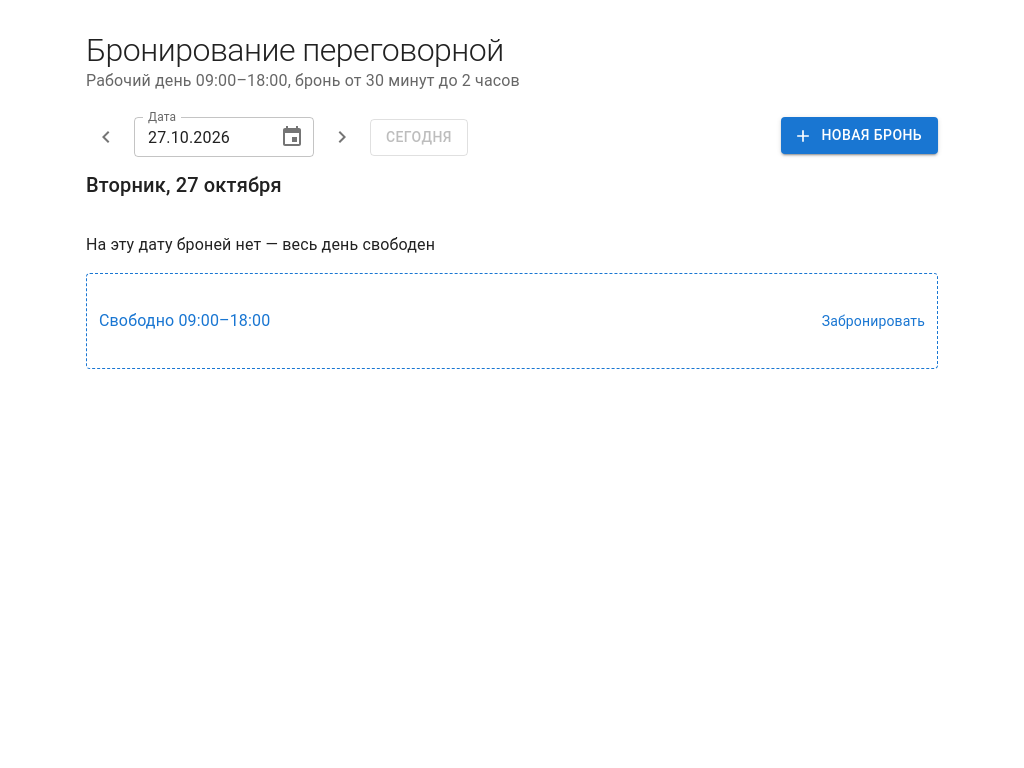
it: App integration › blocks submit with client-side validation when the booking is too long
Click the button with aria-label "Свободно 09:00–18:00, забронировать".
click(139, 321)  # box [86,273,938,369]
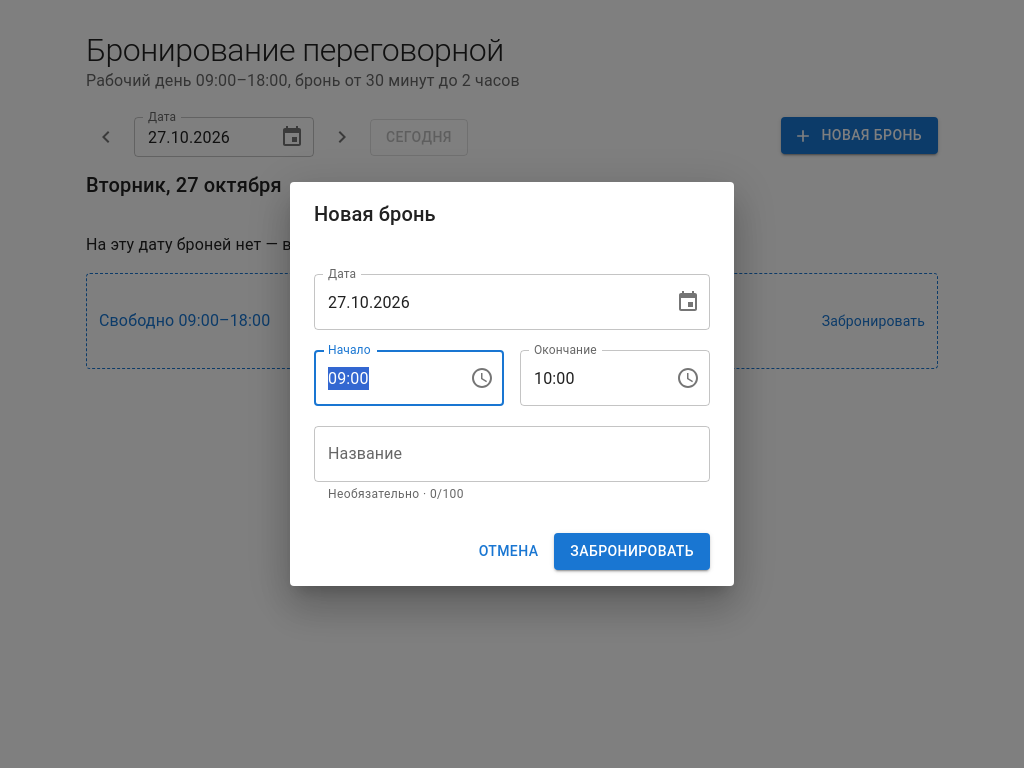
Click the field labelled "Окончание".
click(590, 378)  # box [520,350,660,406]
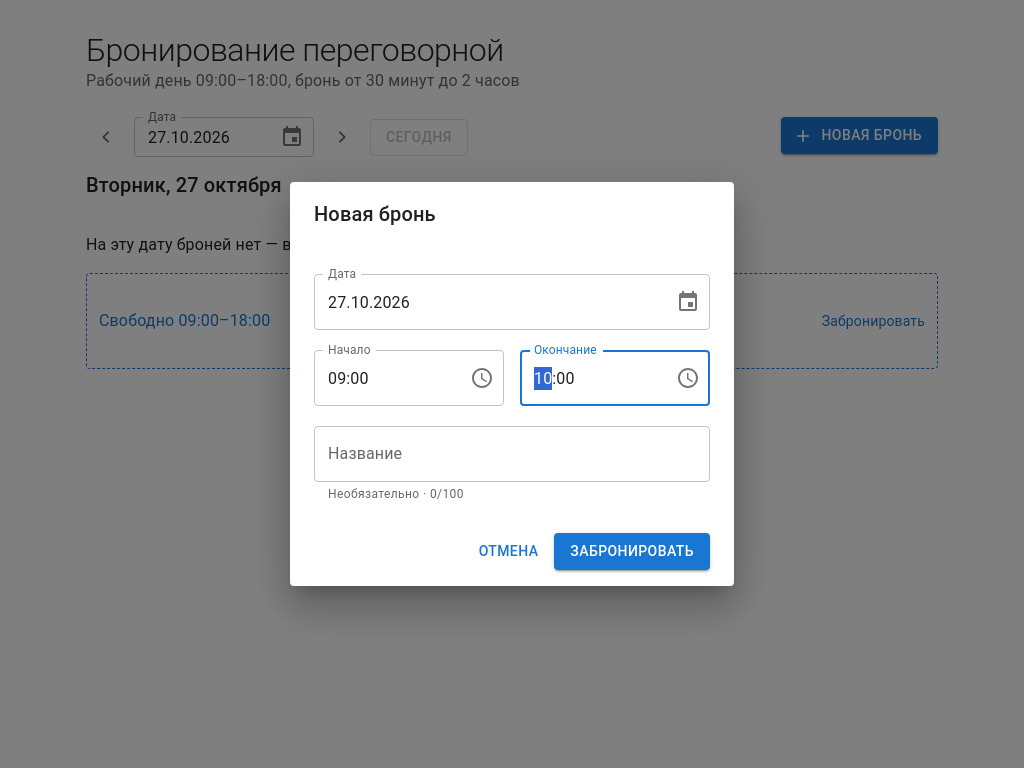
Type keys "{Control>}a{/Control}{Backspace}1300"
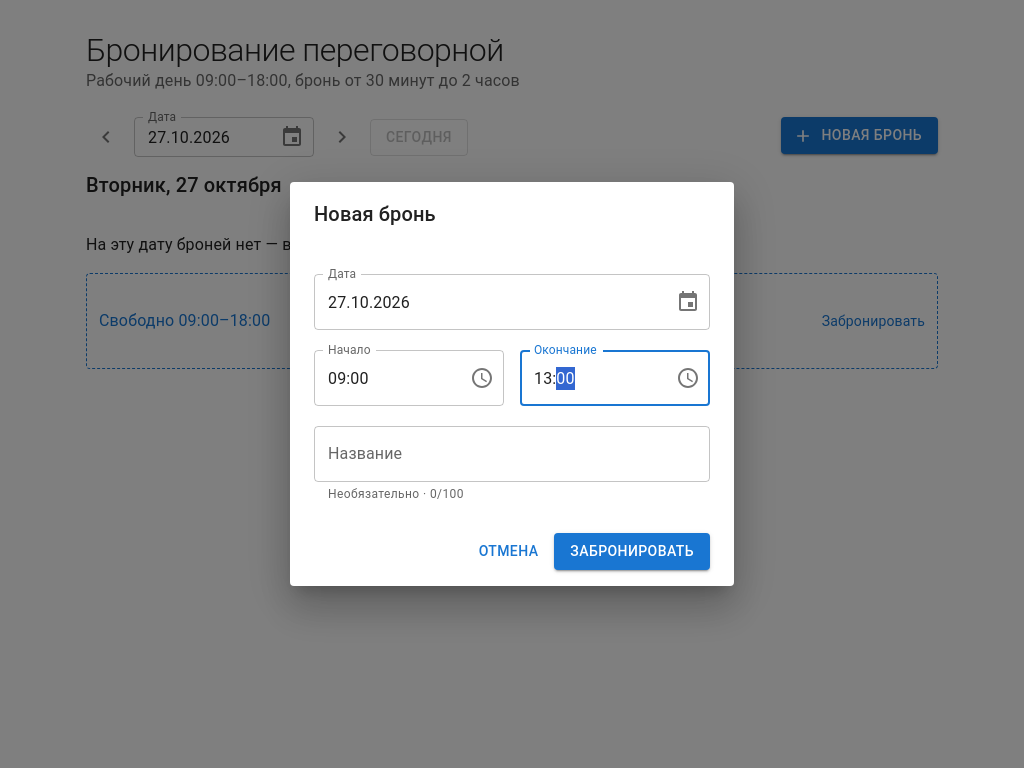
Click the button "Забронировать".
click(632, 551)  # box [554,533,710,570]
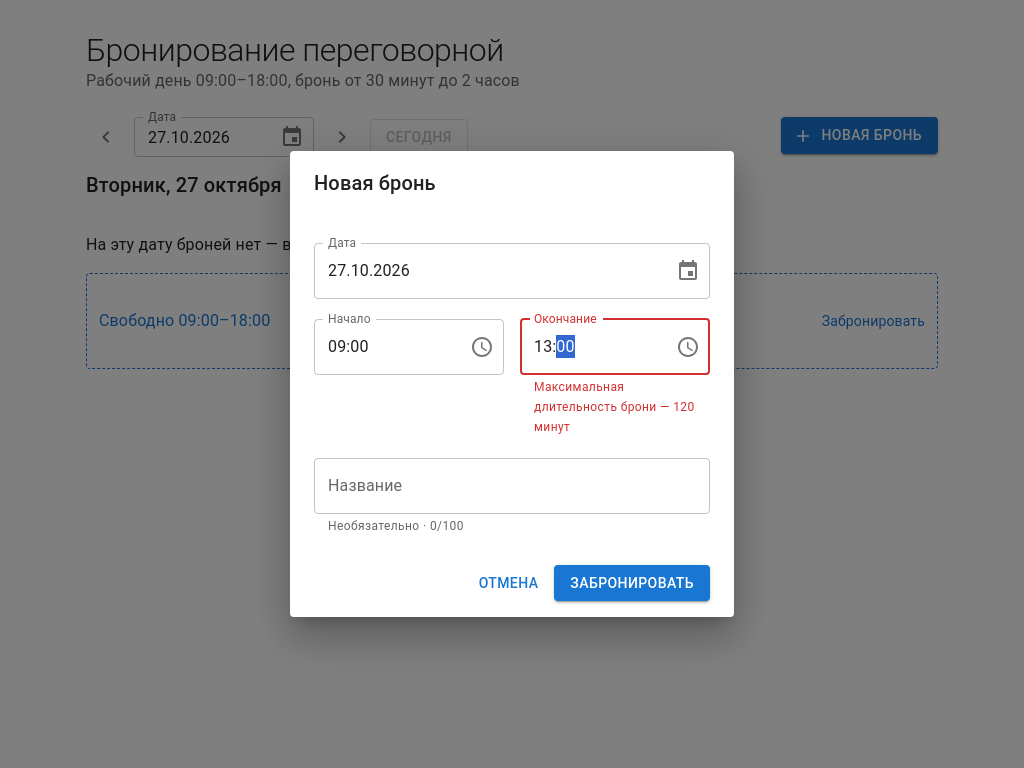
Now the text "Максимальная длительность брони — 120 минут" is shown, box [534,378,696,438]
